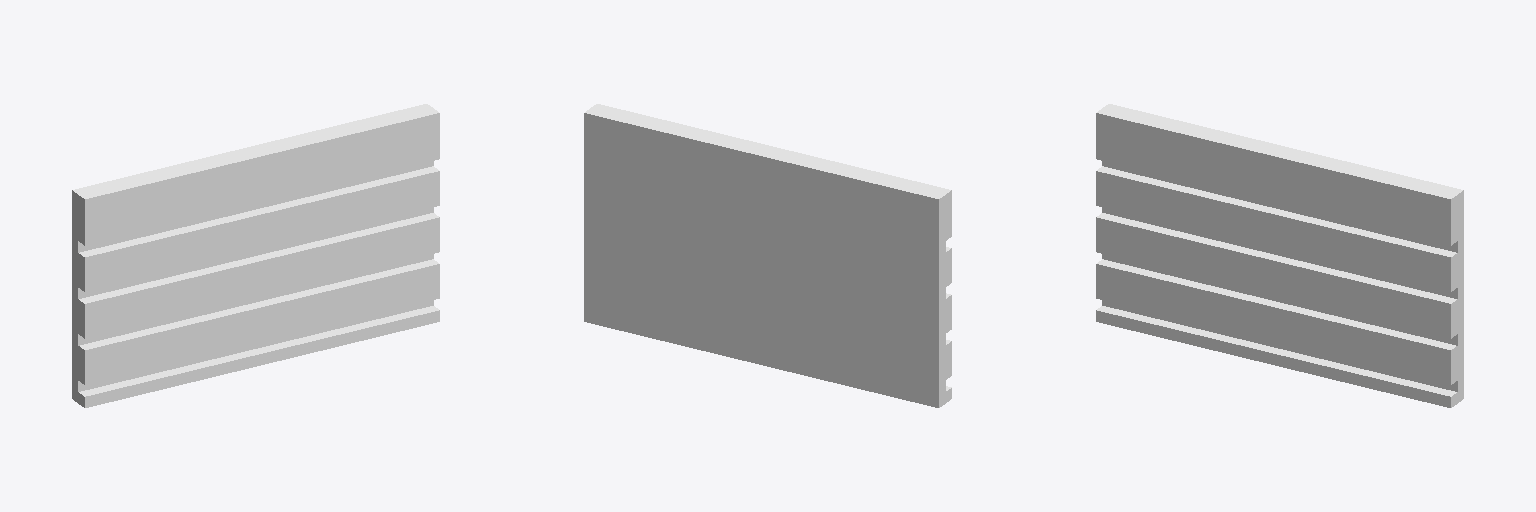
File: portao.obj
3 renders of one model, left to right at view 1: azimuth 30°, elevation 25°; view 2: azimuth 150°, elevation 25°; view 3: azimuth 330°, elevation 25°, orthographic.
Bounding box in the file's own units: 32 × 18 × 2.